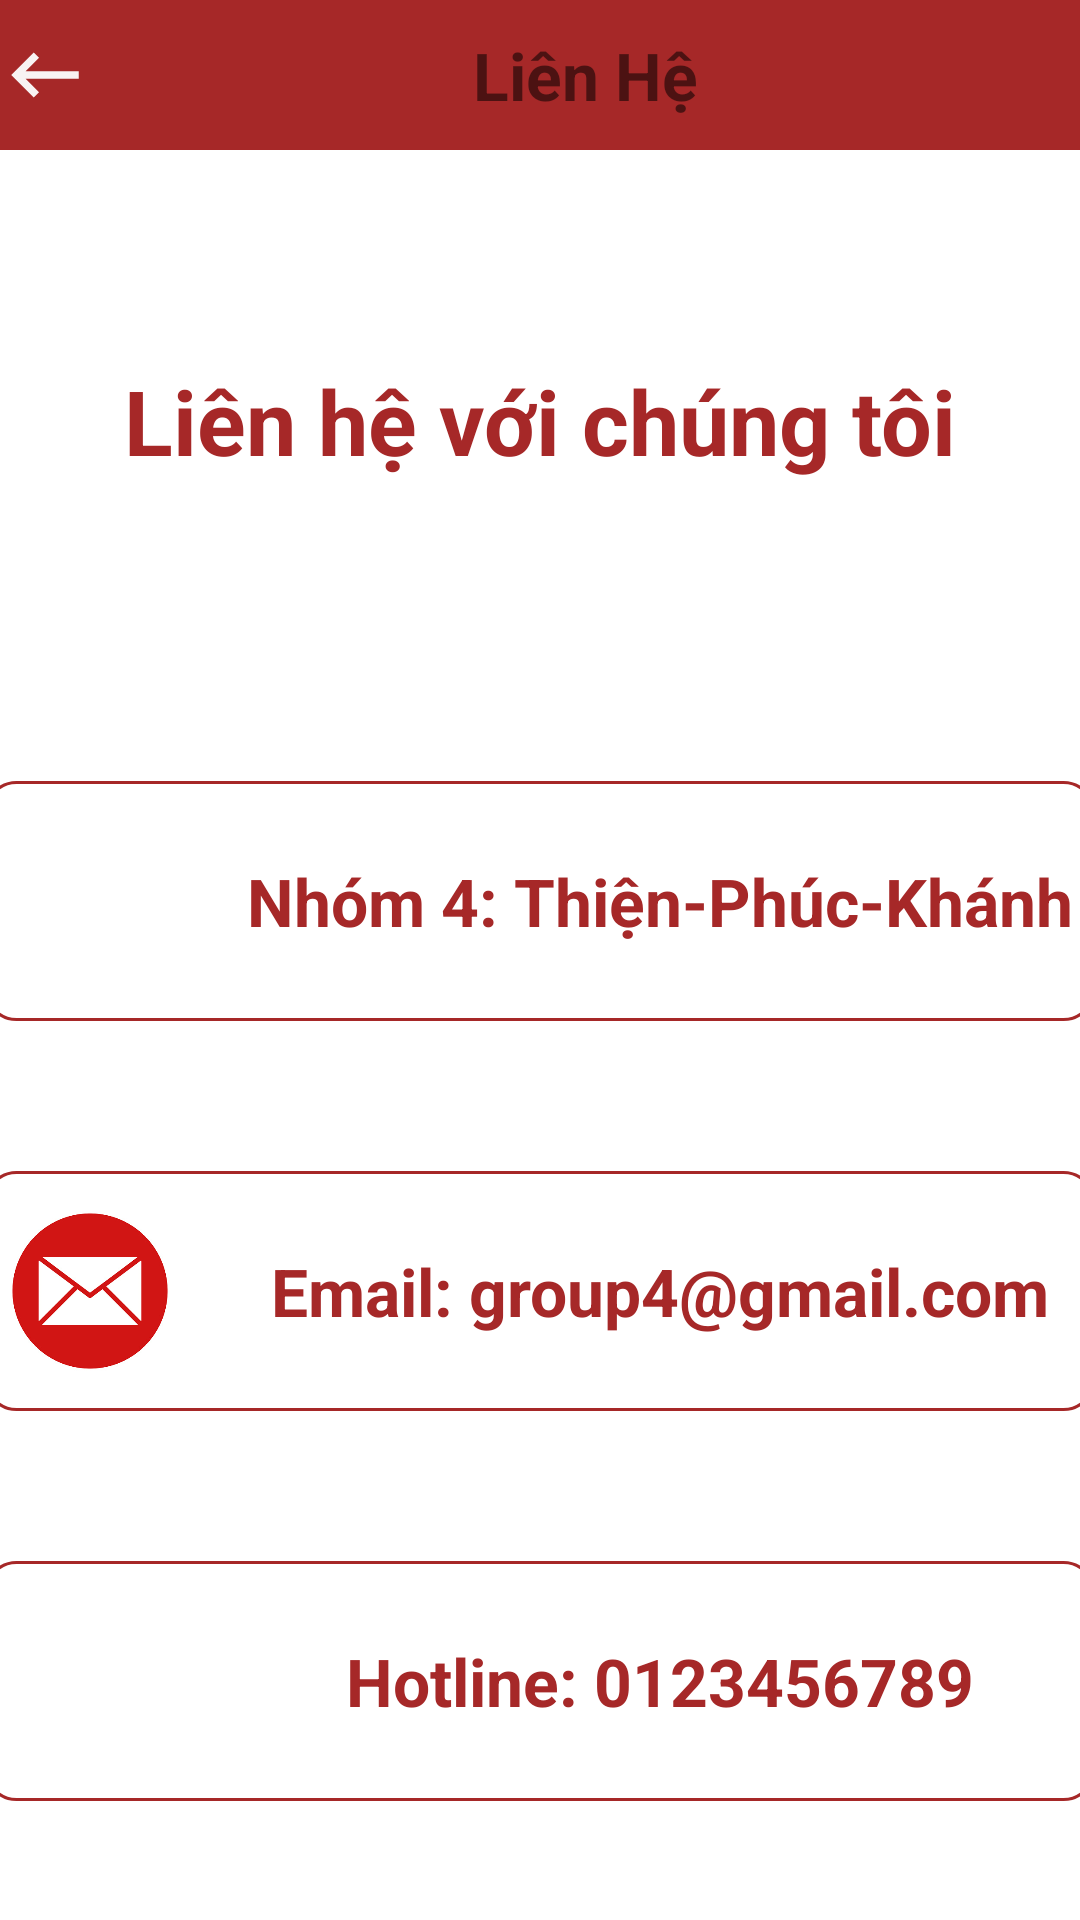

Named icons in this screenshot (1080 × 1920) and their bounding boxes, (x1,y1,x2,y2):
back: (11,52,79,98)
